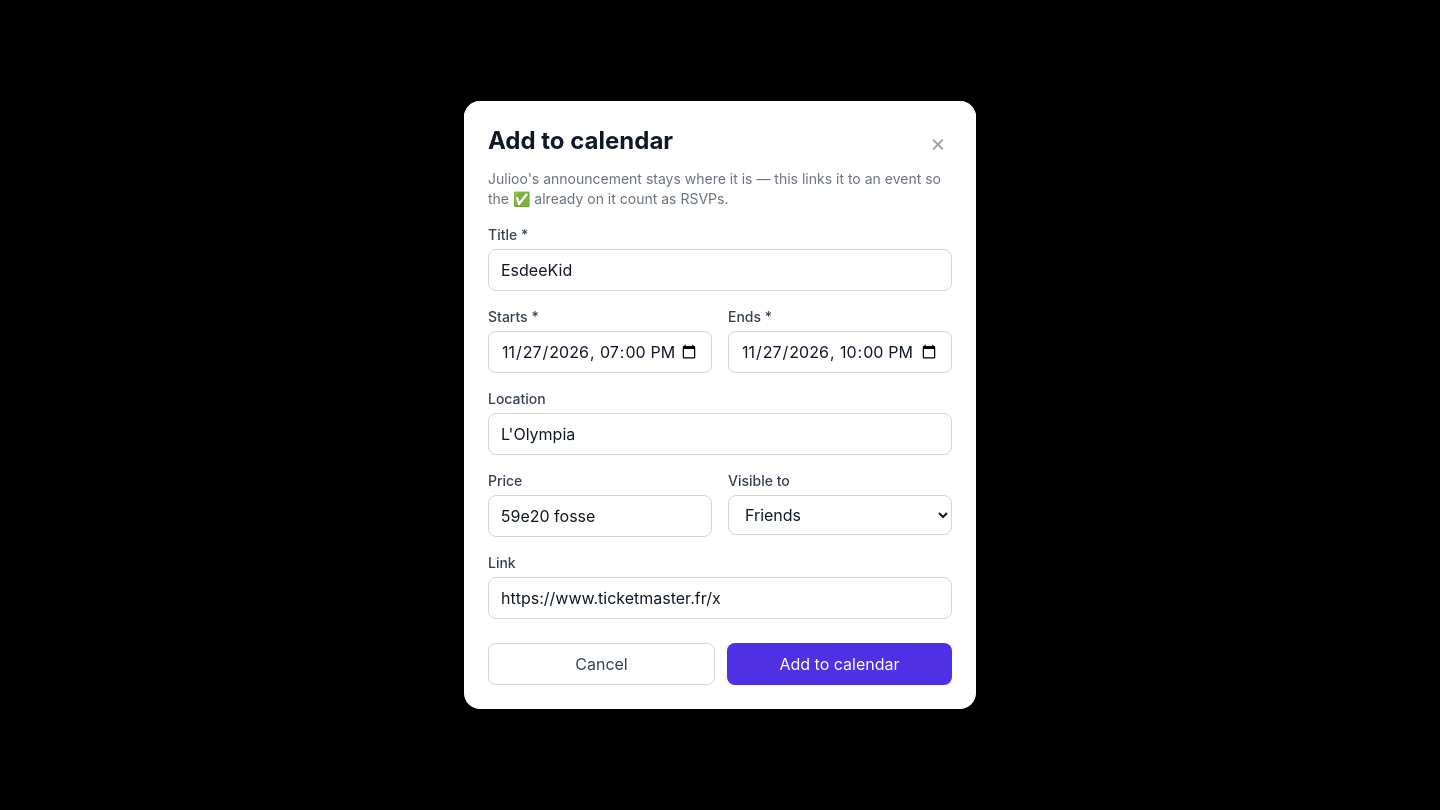
Test: AdoptEventModal › refuses an end time that is not after the start
This screenshot has width=1440, height=810.
Replace the text in the field labelled "Ends *" with "2020-01-01T10:00" at (840, 352), box [728,331,952,373]
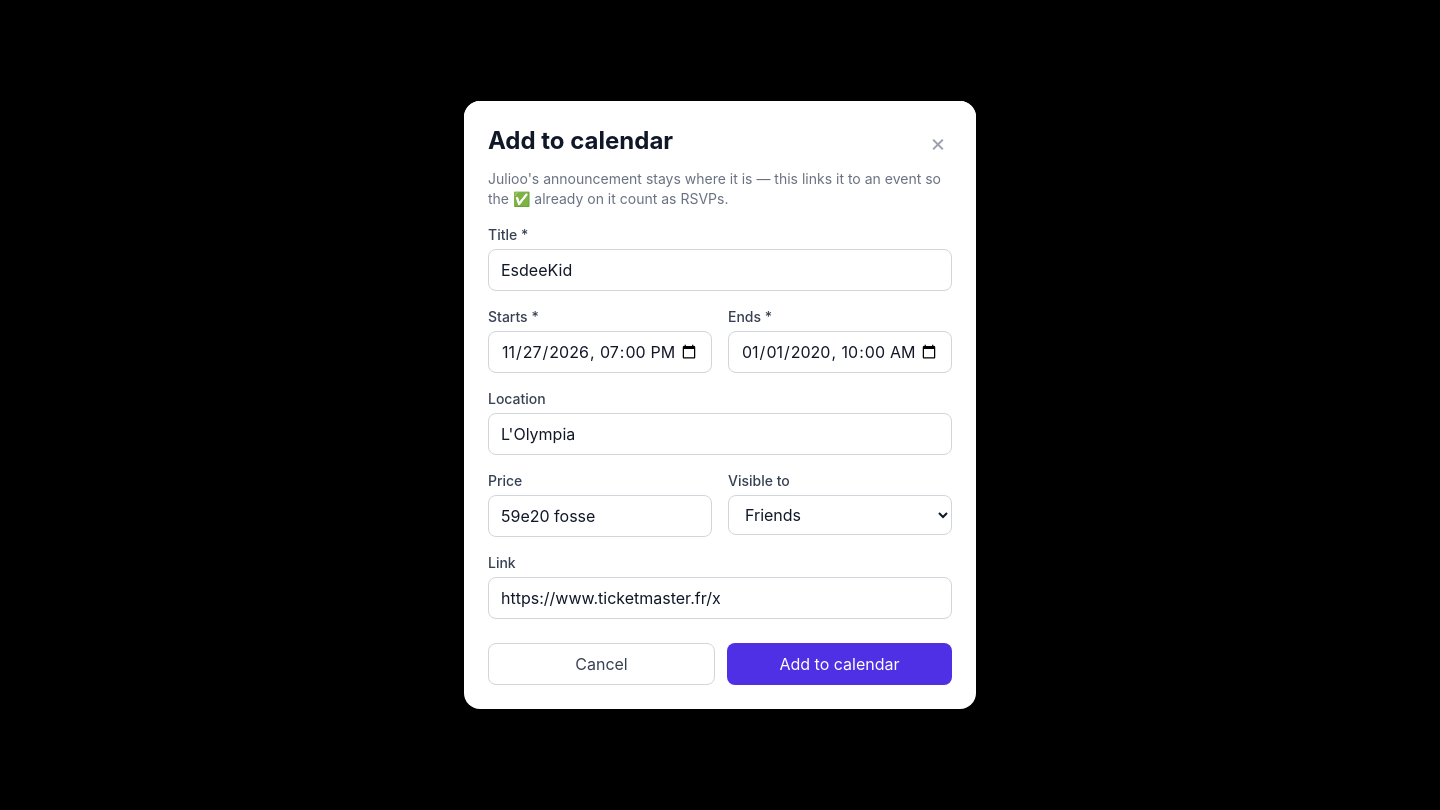
Click the button "Add to calendar" at (840, 664), box [727,643,952,685]
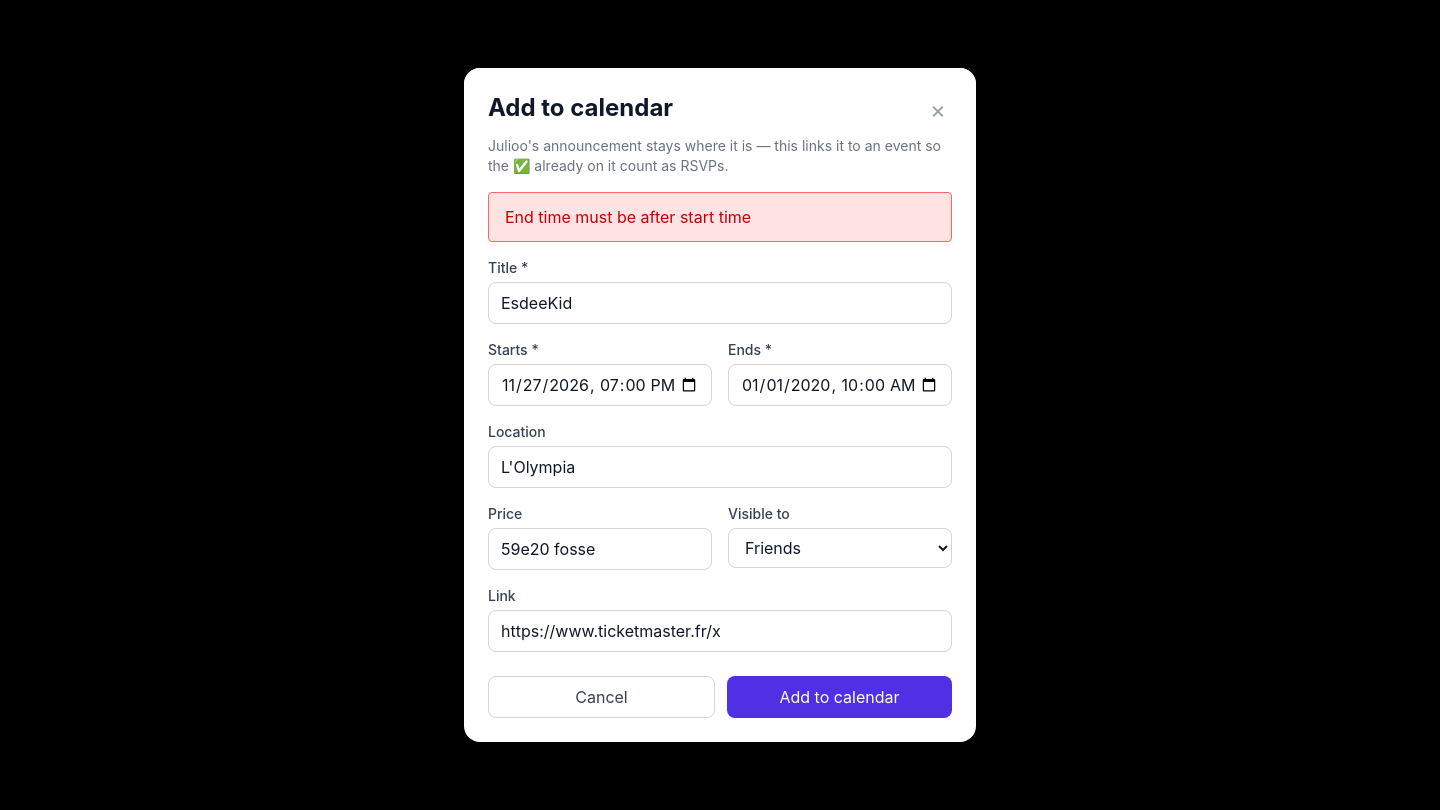
Result: the text "End time must be after start time" is shown at [488,192,952,242]
